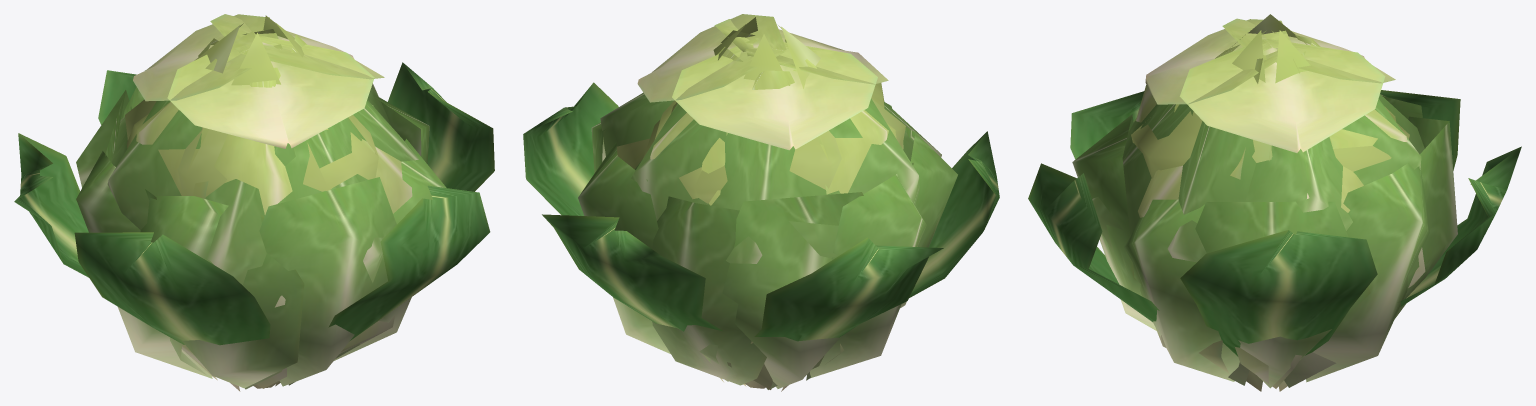
3 renders of one model, left to right at view 1: azimuth 30°, elevation 25°; view 2: azimuth 150°, elevation 25°; view 3: azimuth 270°, elevation 25°, orthographic.
Visible parts, largest first — view 1: cabbage; view 2: cabbage; view 3: cabbage.
Part boxes in pixels (bbox=[...]): cabbage: bbox=[14, 14, 494, 391]; cabbage: bbox=[523, 14, 999, 391]; cabbage: bbox=[1028, 14, 1521, 391].
Size of the model in its own units: 0.3345 by 0.28 by 0.3436.
1 material, 1 textured.
